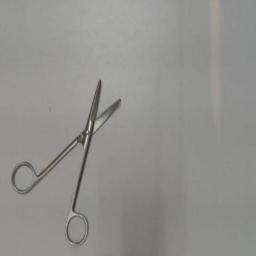Curved Mayo Scissors: (8, 72, 126, 250)
